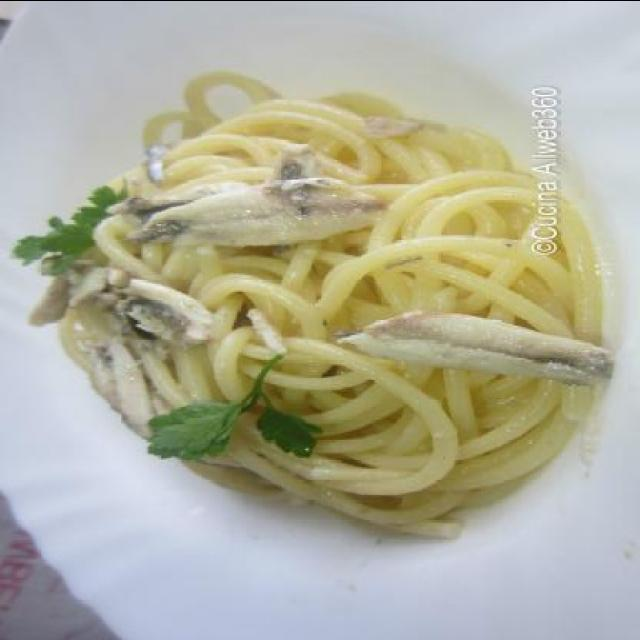Oil pasta: (44, 68, 634, 522)
